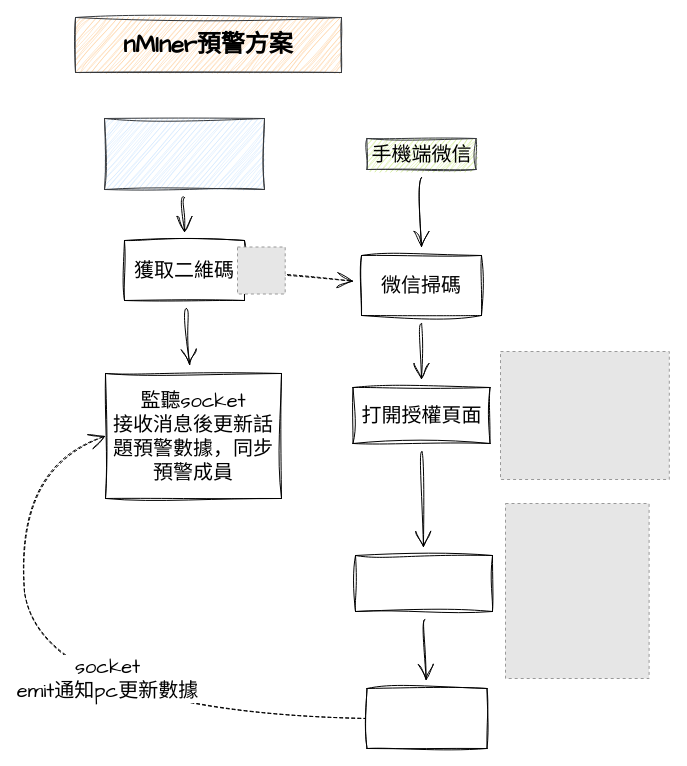
This 687x766 diagram has some shape labels left out. Grey dashed boxes stand in for pictures. The box of each missing label's shape, as (x1, y1, x2, y2) in pixels:
PC平台: (104, 118, 264, 190)
顯示加入成功: (366, 688, 487, 748)
點擊授權，申請加入話題: (354, 554, 492, 612)
